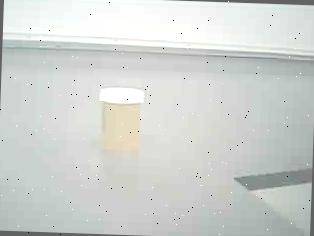Bottle B: (90, 80, 153, 160)
